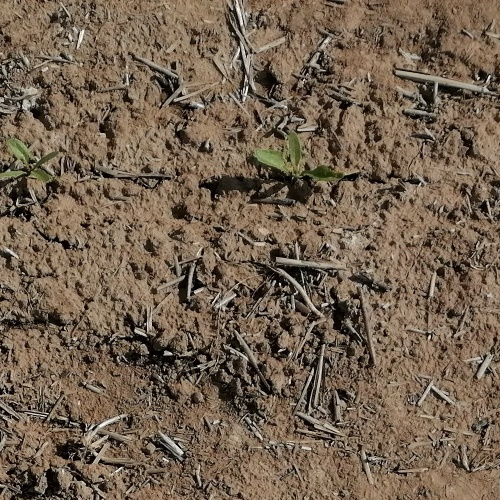beet: (255, 130, 345, 181), (0, 139, 59, 184)
